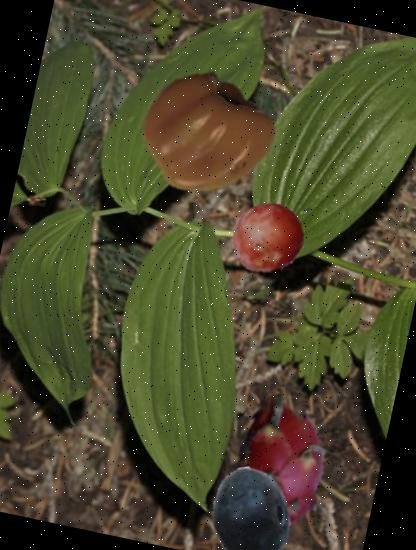Blueberry: (193, 458, 306, 550)
Grape: (224, 194, 311, 282)
Pepper: (128, 51, 289, 212)
Pitahaya: (201, 382, 368, 549)
